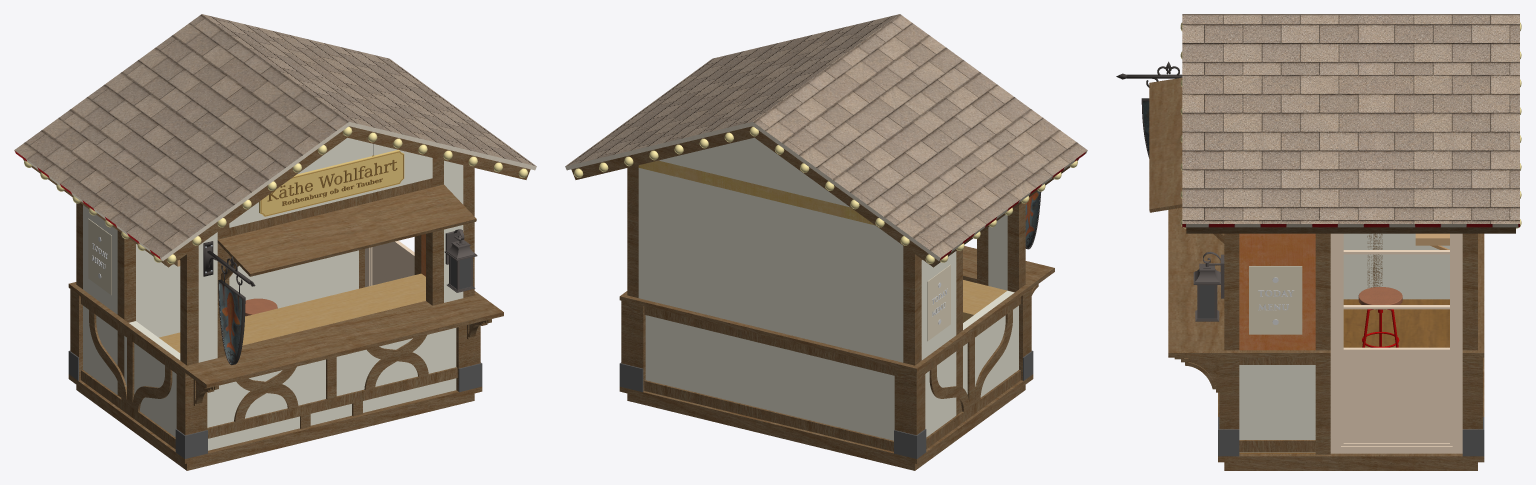
3 renders of one model, left to right at view 1: azimuth 30°, elevation 25°; view 2: azimuth 150°, elevation 25°; view 3: azimuth 270°, elevation 25°, orthographic. The views are drawn at different scales.
Parts seen in each view (by area): view 1: Geom3D (×23), Geom3D_ (×6), Geom3D_Component#39 (×3), Geom3D_Bo goc#2 (×3), Geom3D_Thanh dinh#10, Geom3D_Component#42 (×2), Geom3D_Component#52, Geom3D_Component#44, Geom3D_Thanh dinh#12 (×2), Geom3D_Component#169; view 2: Geom3D (×15), Geom3D_ (×5), Geom3D_Component#39 (×3), Geom3D_Thanh dinh#6 (×2), Geom3D_Bo goc#2 (×3), Geom3D_Thanh dinh#12 (×2), Geom3D_Component#44, Geom3D_Component#42; view 3: Geom3D (×10), Geom3D_ (×9), Geom3D_Component#169, Geom3D_Component#39 (×2), Geom3D_Bo goc#2 (×2), Geom3D_Component#44 (×2), Geom3D_Thanh dinh#11 (×2), Geom3D_Bo goc#3, Geom3D_Component#224.
Boxes of the visible parts, <box> form: Geom3D (×23): <box>14,14,536,458</box>; Geom3D_ (×6): <box>68,126,530,470</box>; Geom3D_Component#39 (×3): <box>76,165,474,365</box>; Geom3D_Bo goc#2 (×3): <box>70,289,480,435</box>; Geom3D_Thanh dinh#10: <box>207,367,457,438</box>; Geom3D_Component#42 (×2): <box>217,158,443,357</box>; Geom3D_Component#52: <box>229,178,432,236</box>; Geom3D_Component#44: <box>117,230,135,397</box>; Geom3D_Thanh dinh#12 (×2): <box>81,297,176,448</box>; Geom3D_Component#169: <box>366,240,414,286</box>; Geom3D (×15): <box>565,14,1087,458</box>; Geom3D_ (×5): <box>571,126,1054,470</box>; Geom3D_Component#39 (×3): <box>627,165,1025,365</box>; Geom3D_Thanh dinh#6 (×2): <box>644,306,894,451</box>; Geom3D_Bo goc#2 (×3): <box>621,289,1031,435</box>; Geom3D_Thanh dinh#12 (×2): <box>925,297,1020,448</box>; Geom3D_Component#44: <box>956,250,962,415</box>; Geom3D_Component#42: <box>977,228,988,285</box>; Geom3D (×10): <box>1182,14,1519,456</box>; Geom3D_ (×9): <box>1149,77,1499,470</box>; Geom3D_Component#169: <box>1333,233,1460,453</box>; Geom3D_Component#39 (×2): <box>1224,233,1477,350</box>; Geom3D_Bo goc#2 (×2): <box>1219,357,1482,429</box>; Geom3D_Component#44 (×2): <box>1315,233,1382,350</box>; Geom3D_Thanh dinh#11 (×2): <box>1239,357,1315,452</box>; Geom3D_Bo goc#3: <box>1315,357,1330,454</box>; Geom3D_Component#224: <box>1174,357,1219,392</box>.
Bounding box in the file's own units: 3.92 × 3.26 × 3.19.
33 materials, 14 textured.
